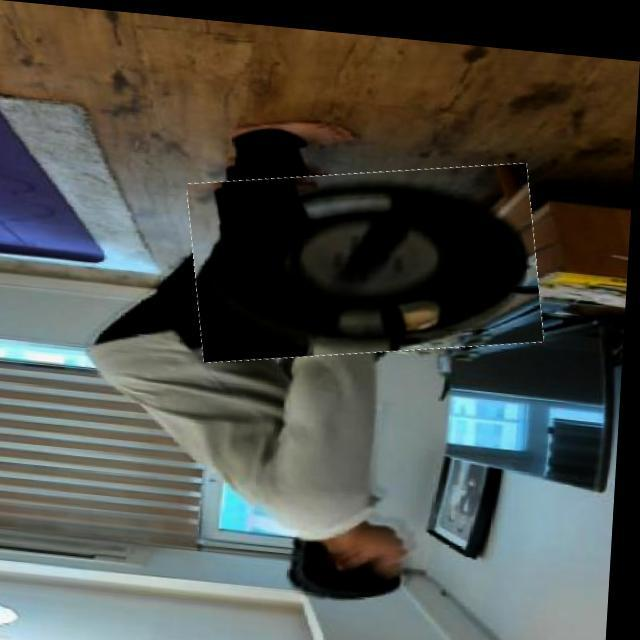barbell: (188, 140, 550, 371)
